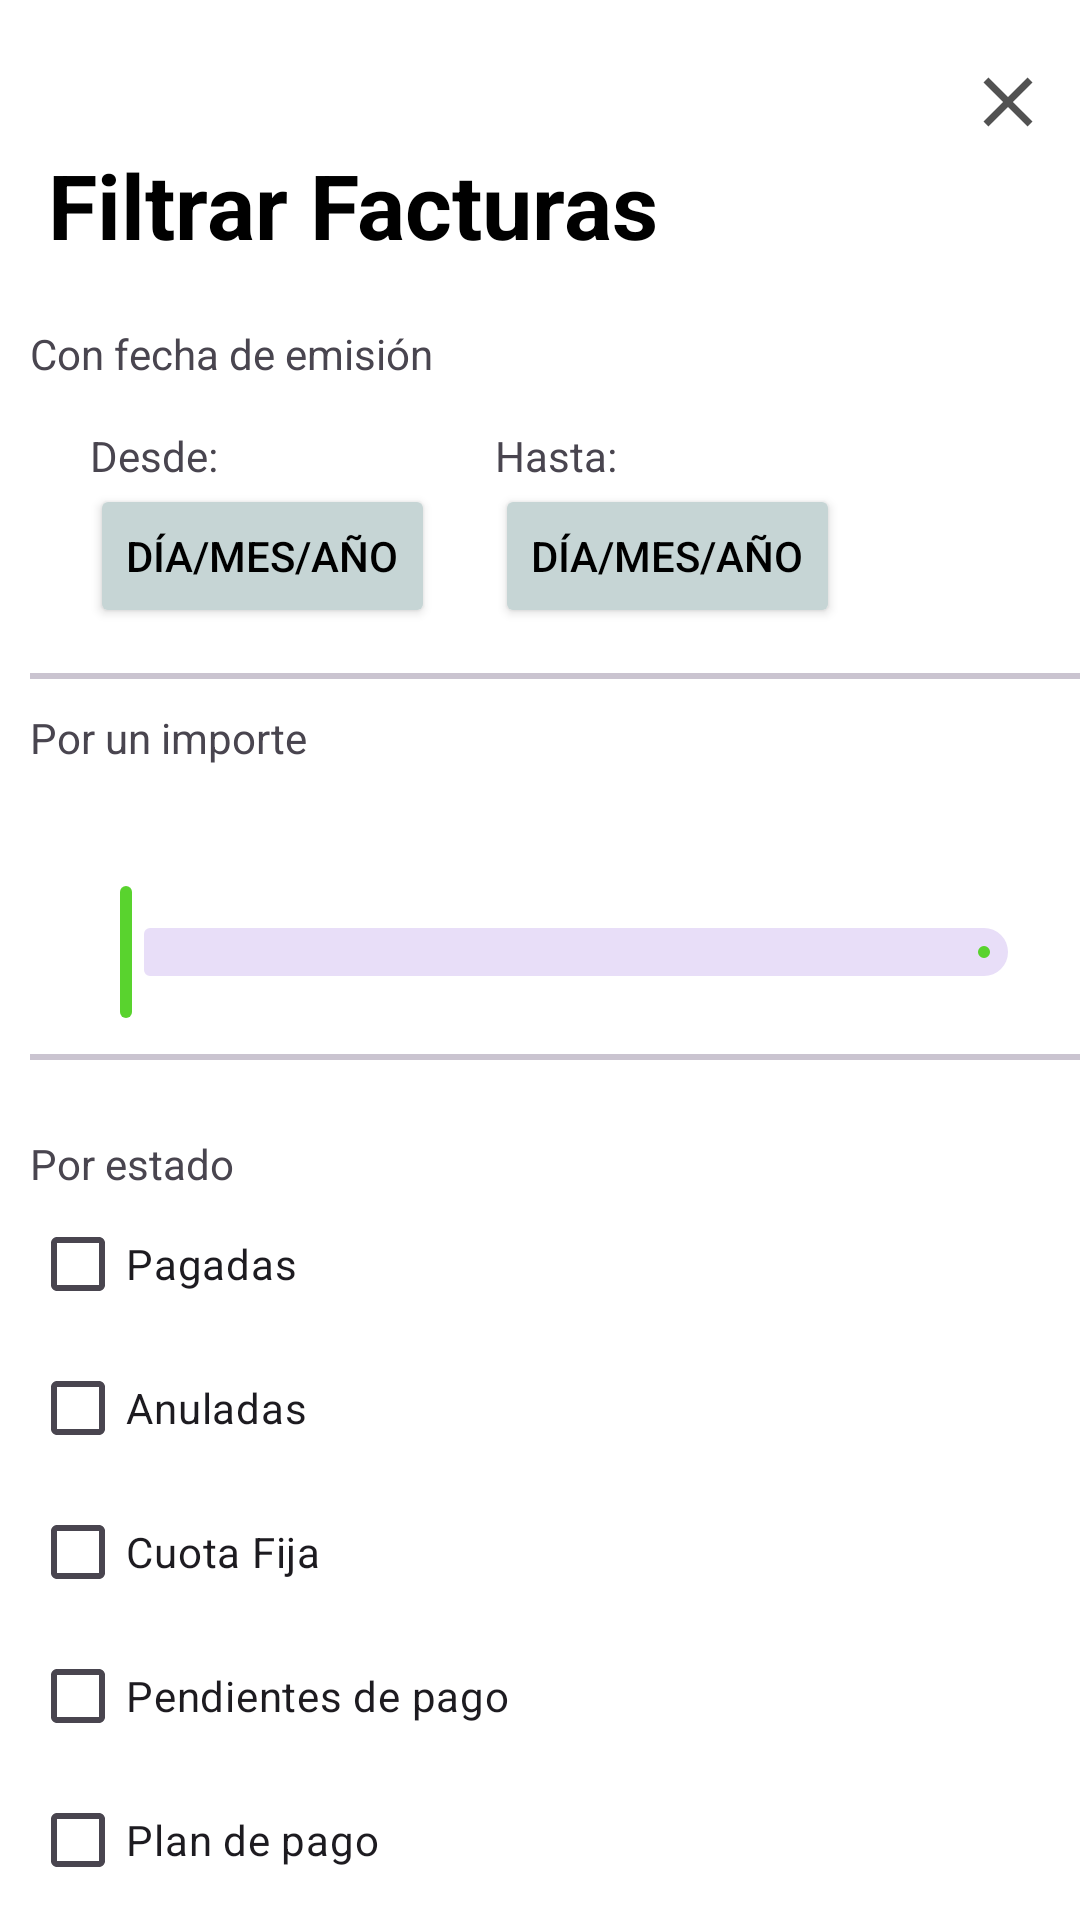

Named icons in this screenshot (1080*1920) and their centers, (x=x, y=y):
close: (x=1008, y=102)
